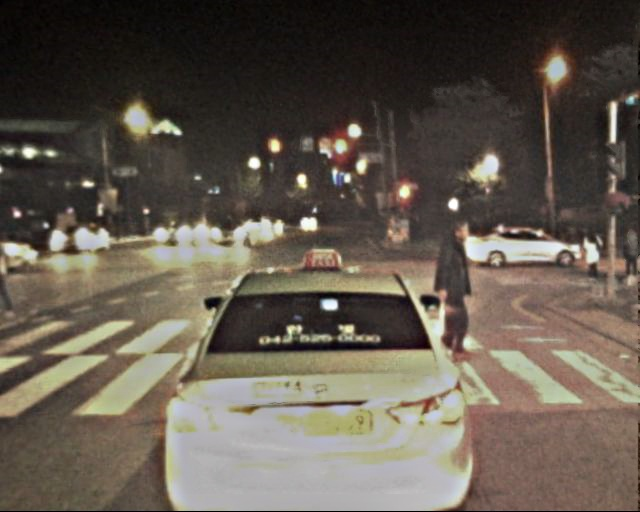person: (425, 220, 484, 364), (1, 218, 34, 317), (579, 225, 606, 291), (617, 225, 640, 284)
